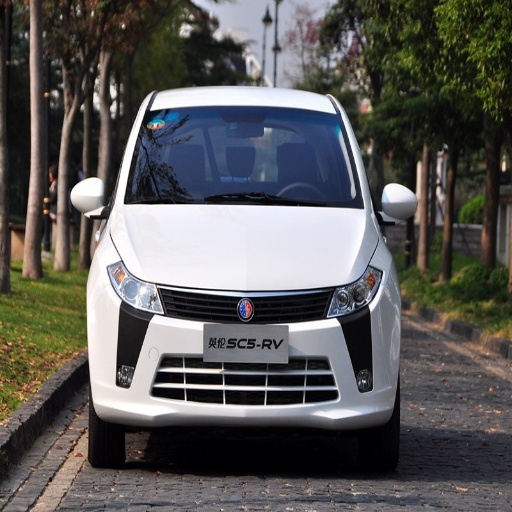front_bumper: (92, 284, 393, 425)
front_right_light: (108, 263, 165, 312)
hood: (111, 204, 378, 290)
left_mirror: (379, 183, 418, 226)
